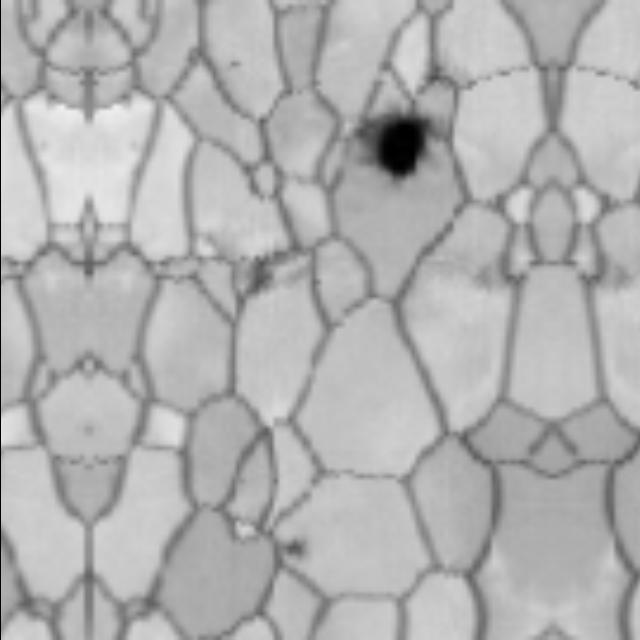good_void: (365, 106, 429, 195), (459, 248, 507, 303), (597, 248, 640, 303), (240, 252, 276, 298), (211, 44, 250, 80), (281, 532, 306, 562)
